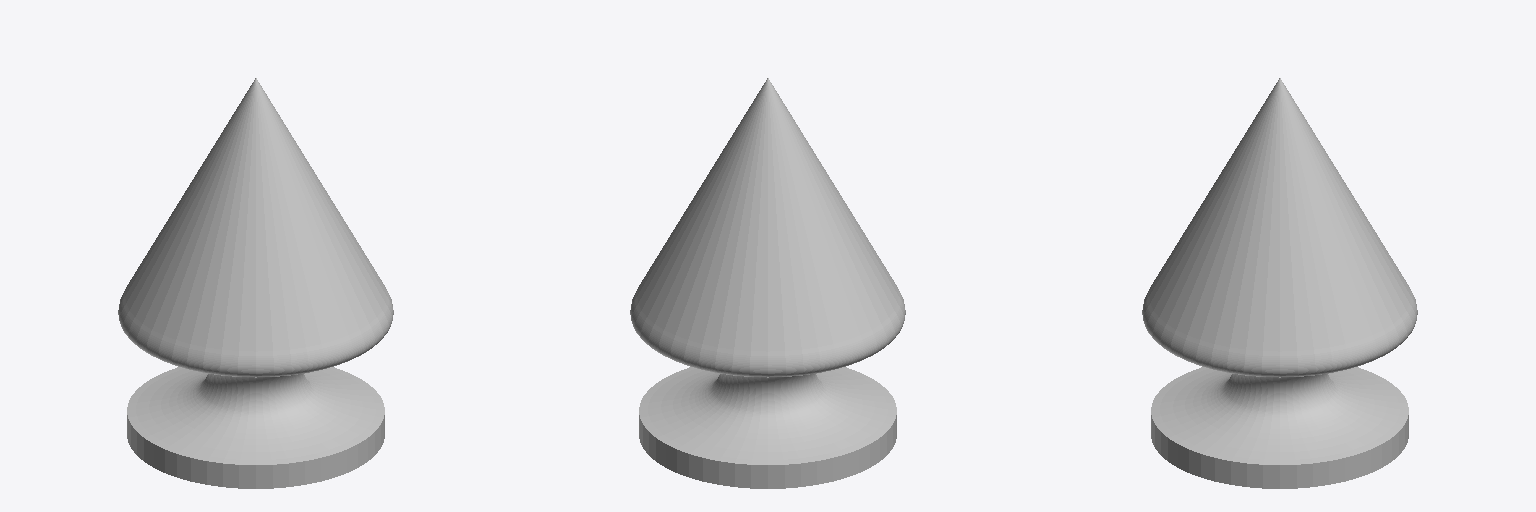
The model's file is spike.obj.
The picture shows the model from 3 angles: view 1: azimuth 30°, elevation 25°; view 2: azimuth 150°, elevation 25°; view 3: azimuth 270°, elevation 25°; orthographic projection.
Parts seen in each view (by area): view 1: Spike_Soli; view 2: Spike_Soli; view 3: Spike_Soli.
Part boxes in pixels (x1,y1,x2,y2): Spike_Soli: (118,78,393,488); Spike_Soli: (630,78,905,488); Spike_Soli: (1142,78,1417,488).
Size of the model in its own units: 11.89 by 17 by 11.89.